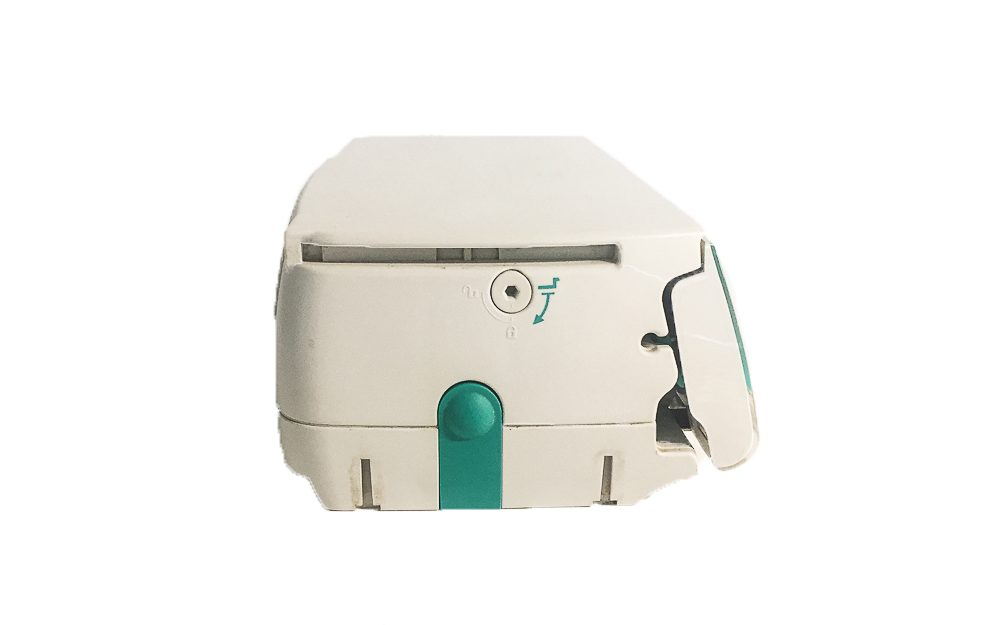BBraun Infusomat Space: (270, 129, 771, 528)
